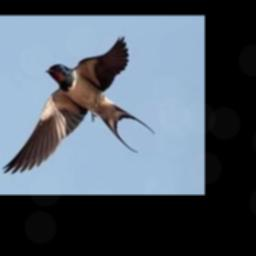Swallow: (2, 35, 154, 173)
